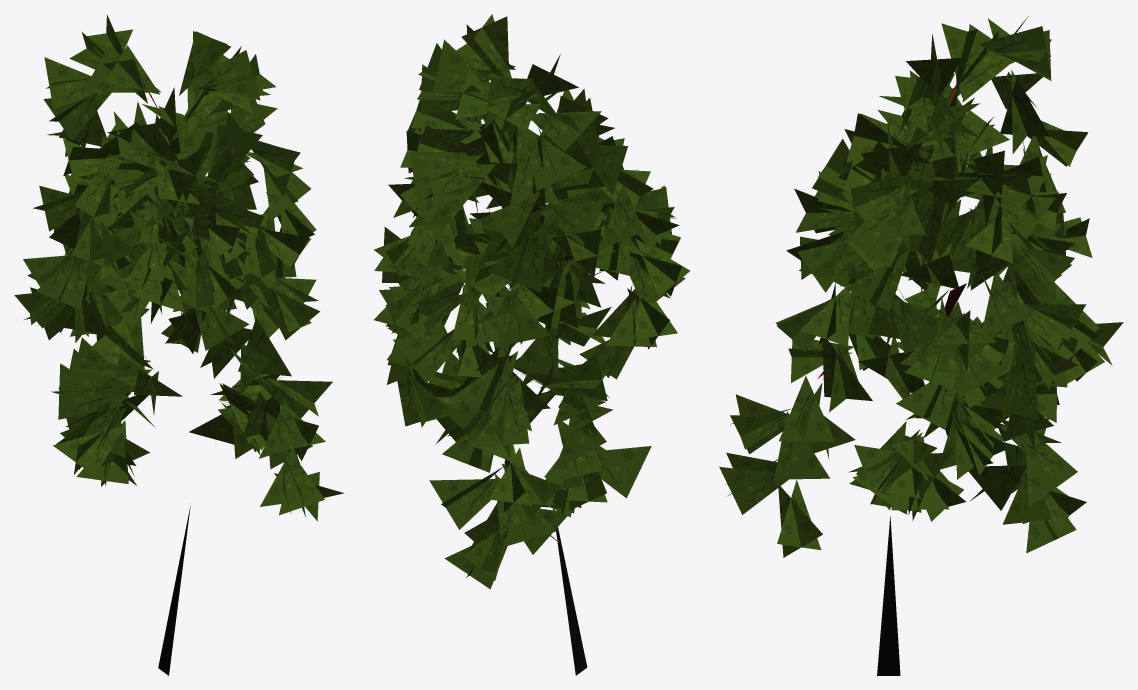
File: birch 2 lod4.FBX
The picture shows the model from 3 angles, left to right: view 1: azimuth 30°, elevation 25°; view 2: azimuth 150°, elevation 25°; view 3: azimuth 270°, elevation 25°; orthographic projection. The views are drawn at different scales.
Visible parts, largest first — view 1: birch2_LOD4; view 2: birch2_LOD4; view 3: birch2_LOD4.
Boxes of the visible parts, <box> form: birch2_LOD4: <box>14,14,344,675</box>; birch2_LOD4: <box>373,14,690,675</box>; birch2_LOD4: <box>719,16,1123,675</box>.
Size of the model in its own units: 51686 by 111652 by 61177.
